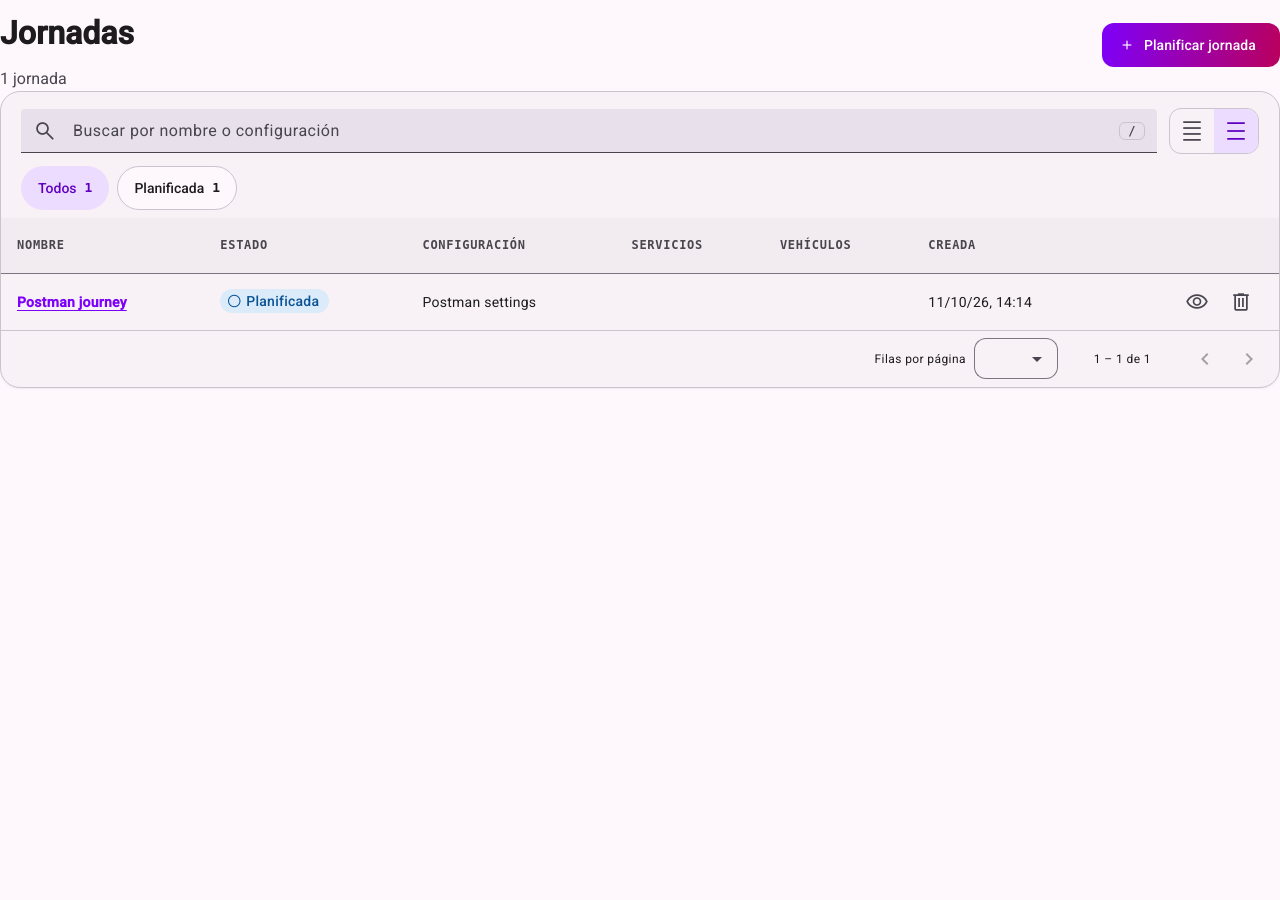
JourneyListComponent › borrado › un error del gateway se muestra y la jornada permanece
What coordinates should you click on to do the following:
click the button named "Eliminar la jornada Postman journey"
I would click on:
 (1241, 302)
Its box is [1219,280,1263,324].
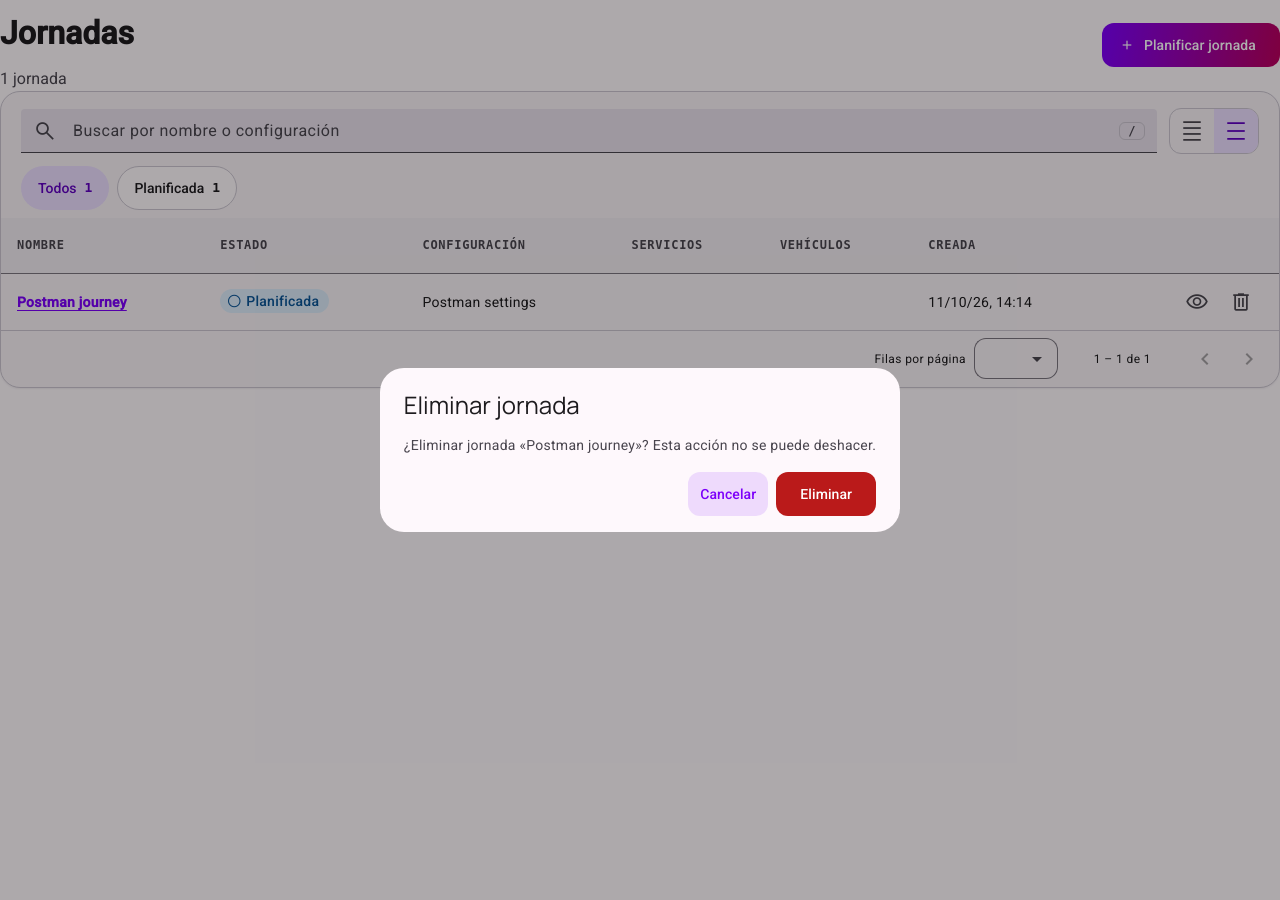
What coordinates should you click on to do the following:
click the button "Eliminar"
I would click on:
 (826, 494)
Its box is [776,472,876,516].
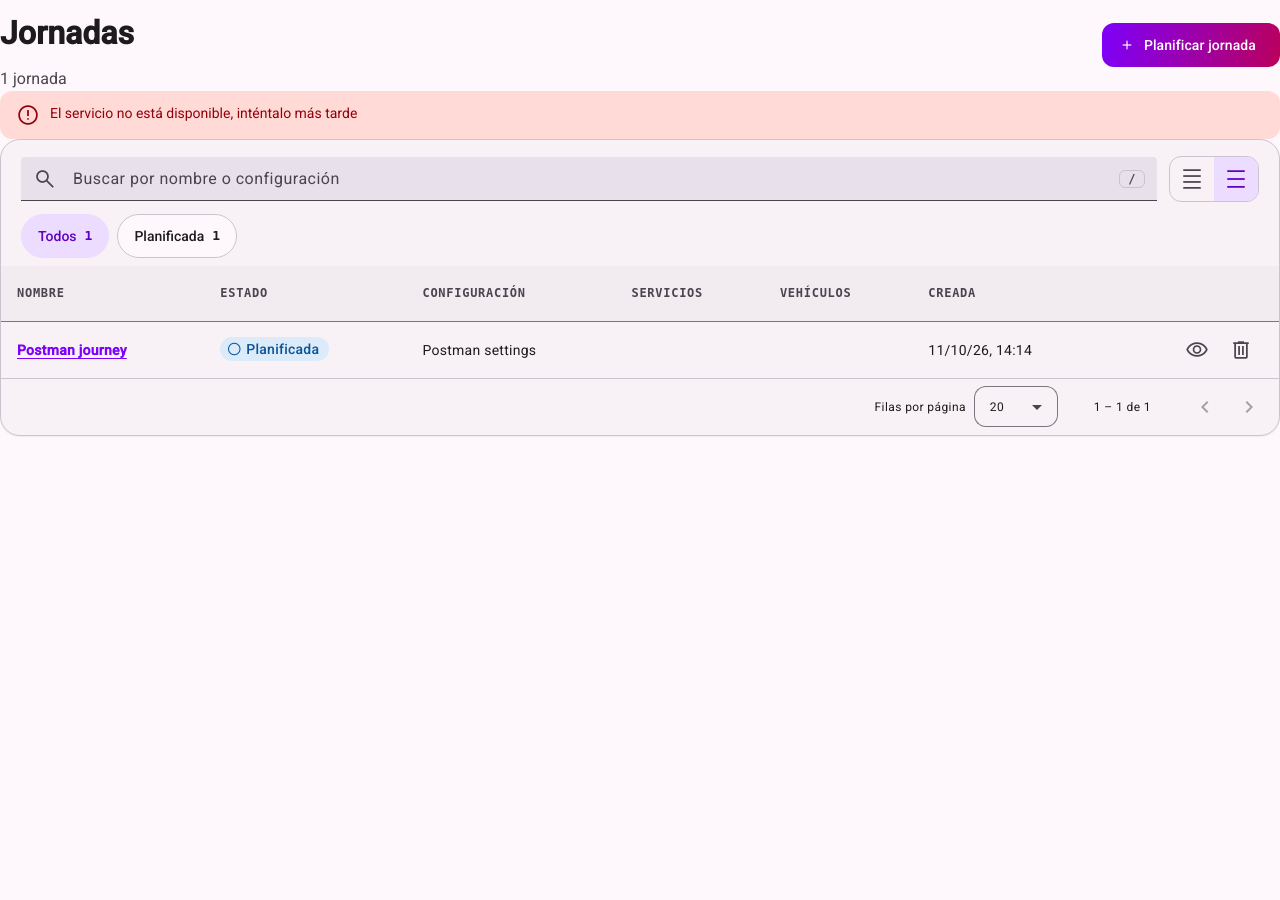
Expected: the text "Postman journey" is shown, [17,342,127,358]
Result: the message "El servicio no está disponible, inténtalo más tarde" is shown at [0,91,1279,139]
